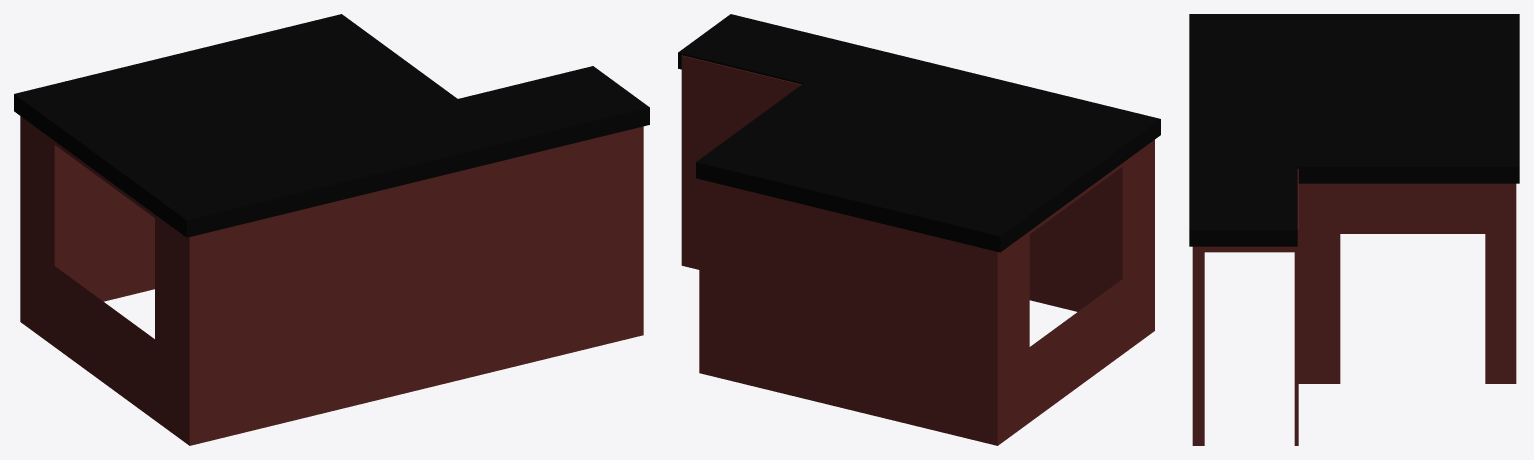
File: Bed03.fbx
3 renders of one model, left to right at view 1: azimuth 30°, elevation 25°; view 2: azimuth 150°, elevation 25°; view 3: azimuth 270°, elevation 25°, orthographic. The views are drawn at different scales.
Visible parts, largest first — view 1: Bed03; view 2: Bed03; view 3: Bed03.
Part boxes in pixels (box(x1,y1,x2,y2)): Bed03: box(14, 14, 649, 445); Bed03: box(678, 14, 1160, 445); Bed03: box(1189, 14, 1519, 445).
Size of the model in its own units: 499 by 235 by 322.
